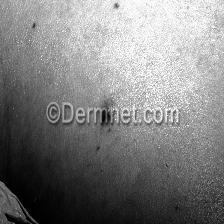Benign Marking or Mole: (31, 22, 37, 32), (114, 2, 119, 10)
